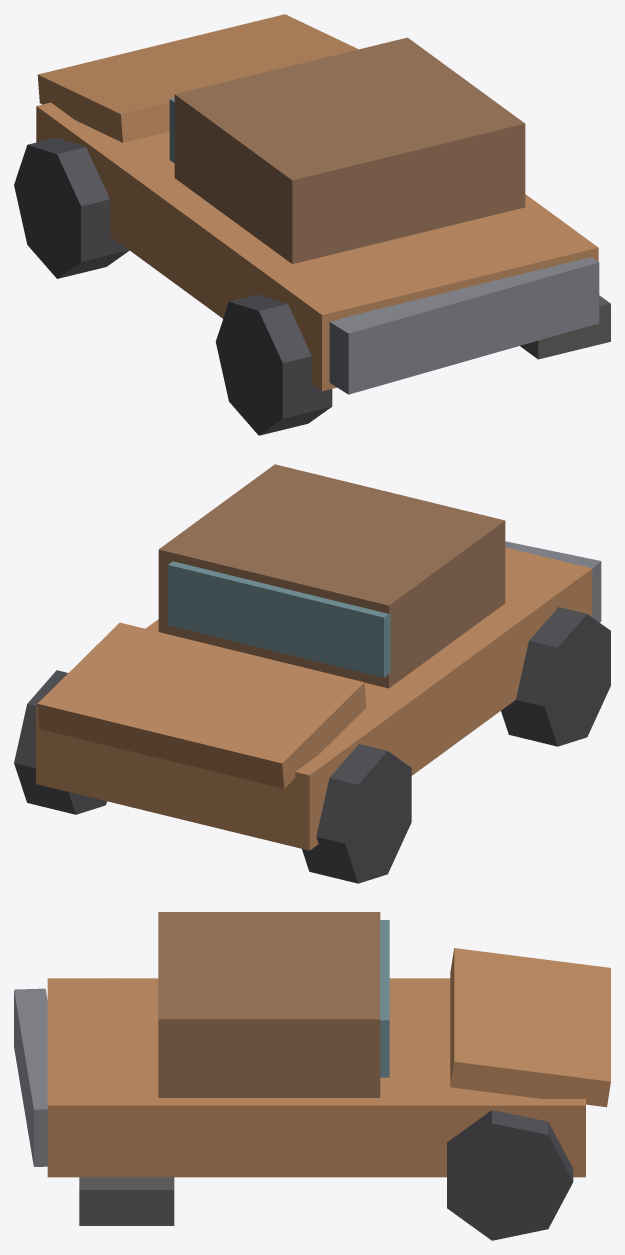
File: wasteland_rusted_car.glb
3 renders of one model, top to bottom at view 1: azimuth 30°, elevation 25°; view 2: azimuth 150°, elevation 25°; view 3: azimuth 270°, elevation 25°, orthographic. The views are drawn at different scales.
Visible parts, largest first — view 1: Prop_RustedCar; view 2: Prop_RustedCar; view 3: Prop_RustedCar.
Boxes of the visible parts, x1,y1,x2,y2 form: Prop_RustedCar: [14, 14, 610, 435]; Prop_RustedCar: [14, 464, 610, 883]; Prop_RustedCar: [14, 912, 610, 1240].
Size of the model in its own units: 2.3 by 1.46 by 3.77.
